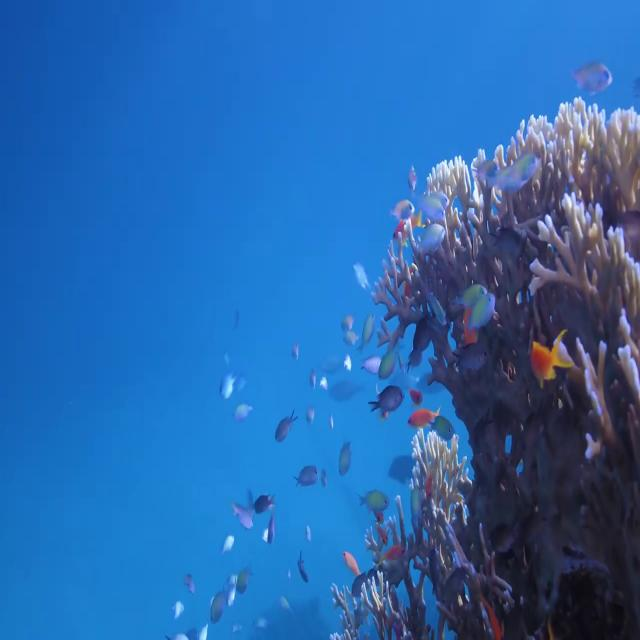fish: (530, 330, 572, 383)
